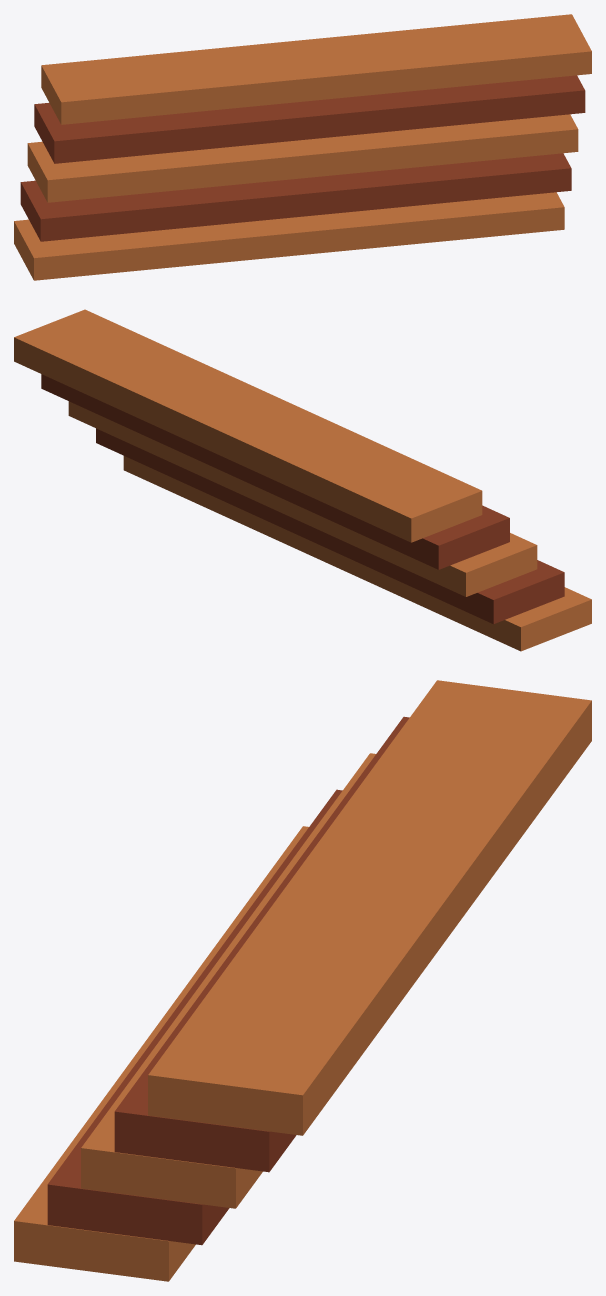
Rendered from copper-flat-bars.glb.
3 renders of one model, top to bottom at view 1: azimuth 30°, elevation 25°; view 2: azimuth 150°, elevation 25°; view 3: azimuth 270°, elevation 25°, orthographic. The views are drawn at different scales.
Visible parts, largest first — view 1: copper-flat-bars; view 2: copper-flat-bars; view 3: copper-flat-bars.
Boxes of the visible parts, bbox=[...] form: copper-flat-bars: bbox=[14, 14, 591, 280]; copper-flat-bars: bbox=[14, 309, 591, 651]; copper-flat-bars: bbox=[14, 680, 591, 1281].
Bounding box in the file's own units: 4 × 0.96 × 2.07.
